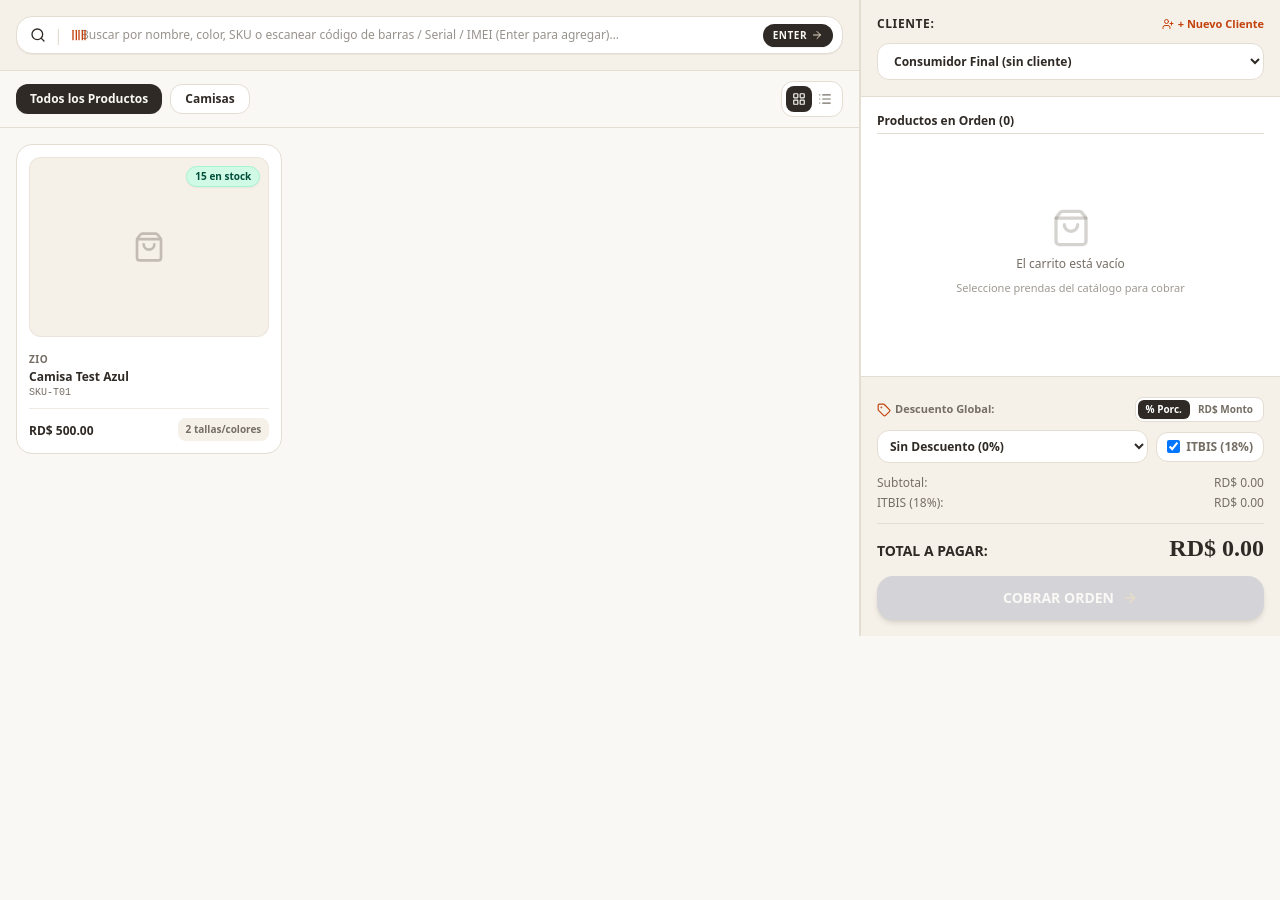
it: POSView -- misma lógica de datos/carrito en ambos modos › agregar desde Cuadrícula usa la función existente (abre el VariantSelectorModal real)
Click the heading "Camisa Test Azul": (79, 377) [29,368,129,385]
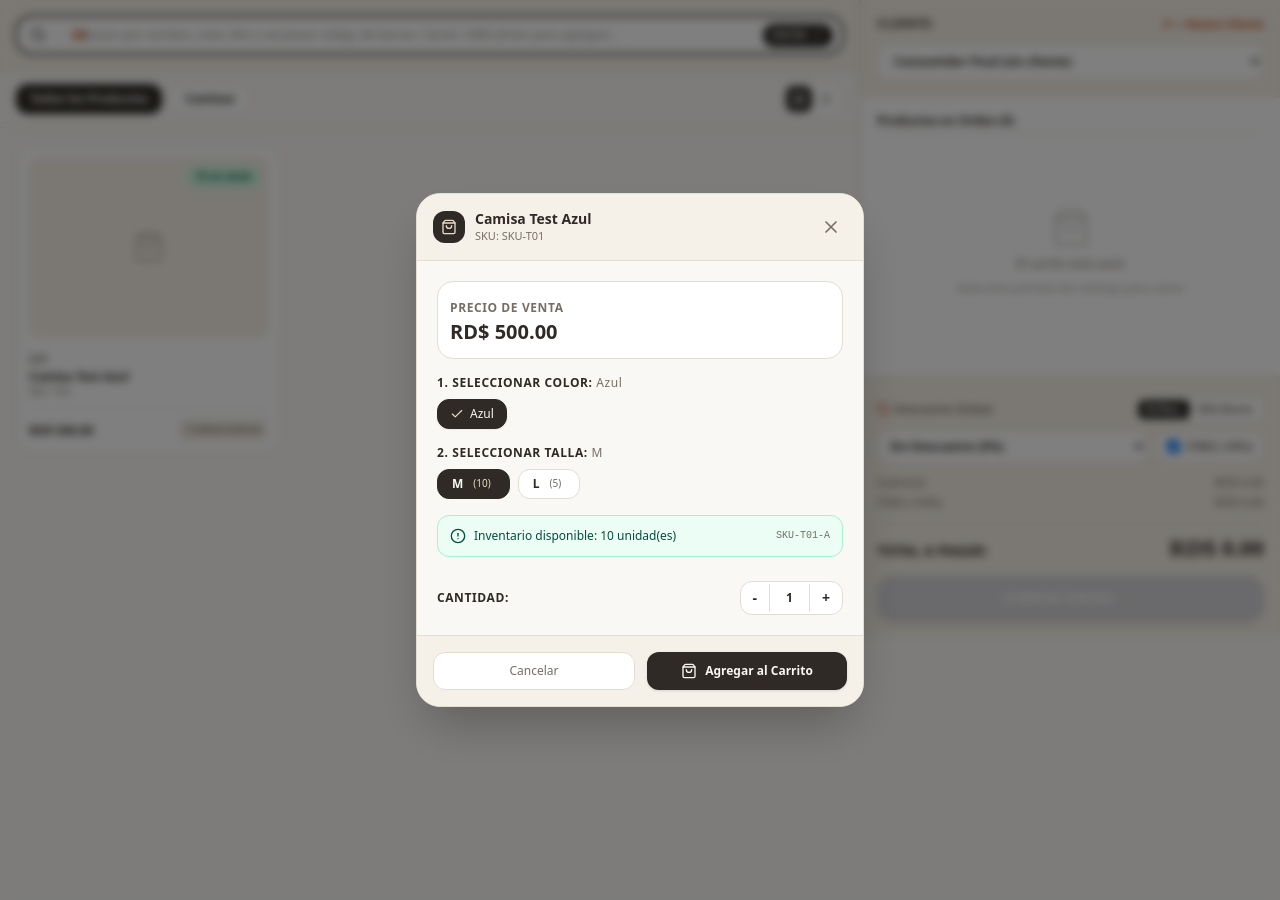
Now the text "Agregar al Carrito" is shown, box [705,663,813,679]
